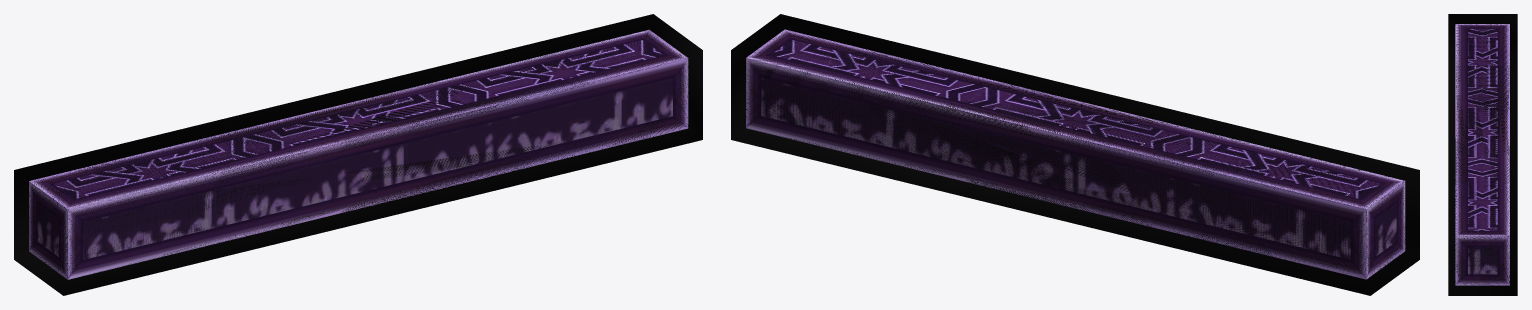
File: WonderBar5.gltf
The picture shows the model from 3 angles, left to right: view 1: azimuth 30°, elevation 25°; view 2: azimuth 150°, elevation 25°; view 3: azimuth 270°, elevation 25°; orthographic projection. The views are drawn at different scales.
Visible parts, largest first — view 1: WonderBar5Mesh, WonderBar5BloomMesh, WonderBar5ZWriteMesh; view 2: WonderBar5Mesh, WonderBar5ZWriteMesh, WonderBar5BloomMesh; view 3: WonderBar5Mesh, WonderBar5BloomMesh, WonderBar5ZWriteMesh.
Boxes of the visible parts, <box> form: WonderBar5Mesh: <box>29,29,688,279</box>; WonderBar5BloomMesh: <box>14,14,702,295</box>; WonderBar5ZWriteMesh: <box>29,30,688,278</box>; WonderBar5Mesh: <box>746,29,1405,279</box>; WonderBar5ZWriteMesh: <box>746,30,1405,276</box>; WonderBar5BloomMesh: <box>731,14,1419,295</box>; WonderBar5Mesh: <box>1455,24,1509,285</box>; WonderBar5BloomMesh: <box>1448,14,1517,295</box>; WonderBar5ZWriteMesh: <box>1455,24,1509,285</box>.
Bounding box in the file's own units: 5.2 × 0.6976 × 0.6966.
Materials: 4 (2 with a texture image).
